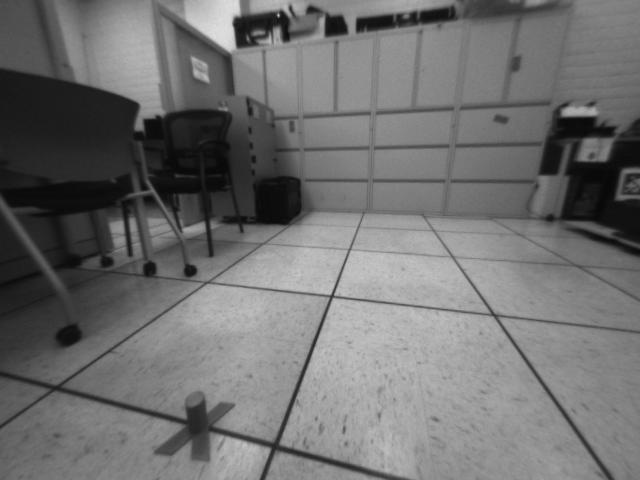X: (150, 388, 236, 466)
